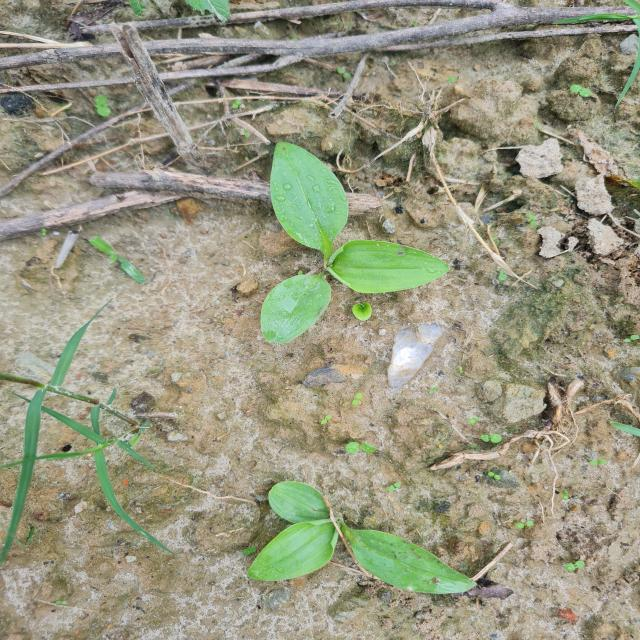maize: (228, 136, 455, 362)
weed: (232, 468, 520, 626)
